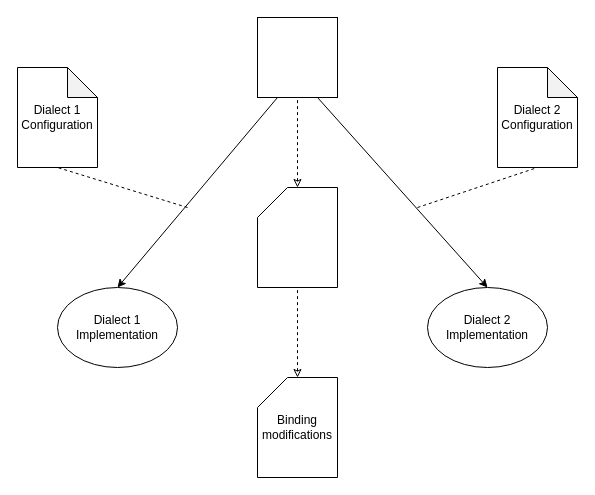
This 595x495 diagram has some shape labels left out. Here are the shapes that lost their labels. From the top down, the box of each, then its label:
(256, 16, 338, 98): UTS Base Schema
(256, 186, 338, 288): Dialect 1 to Dialect 2 Binding Schema
